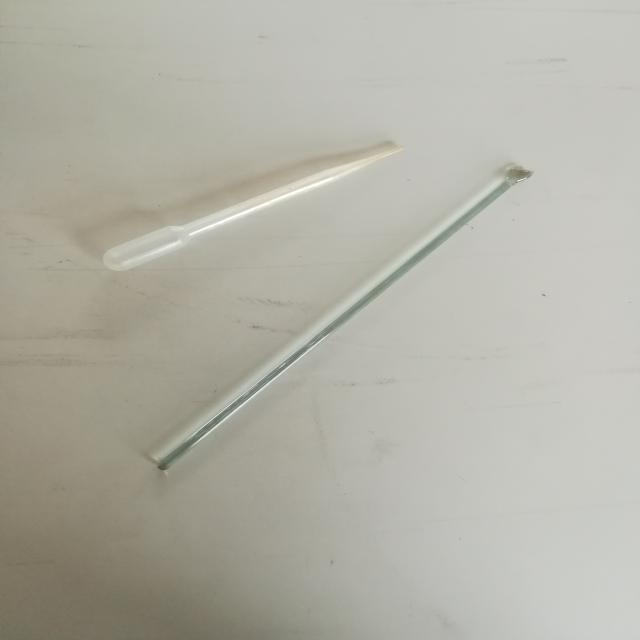Glass_Rod: (138, 152, 568, 509)
Pipette: (48, 115, 454, 282)
